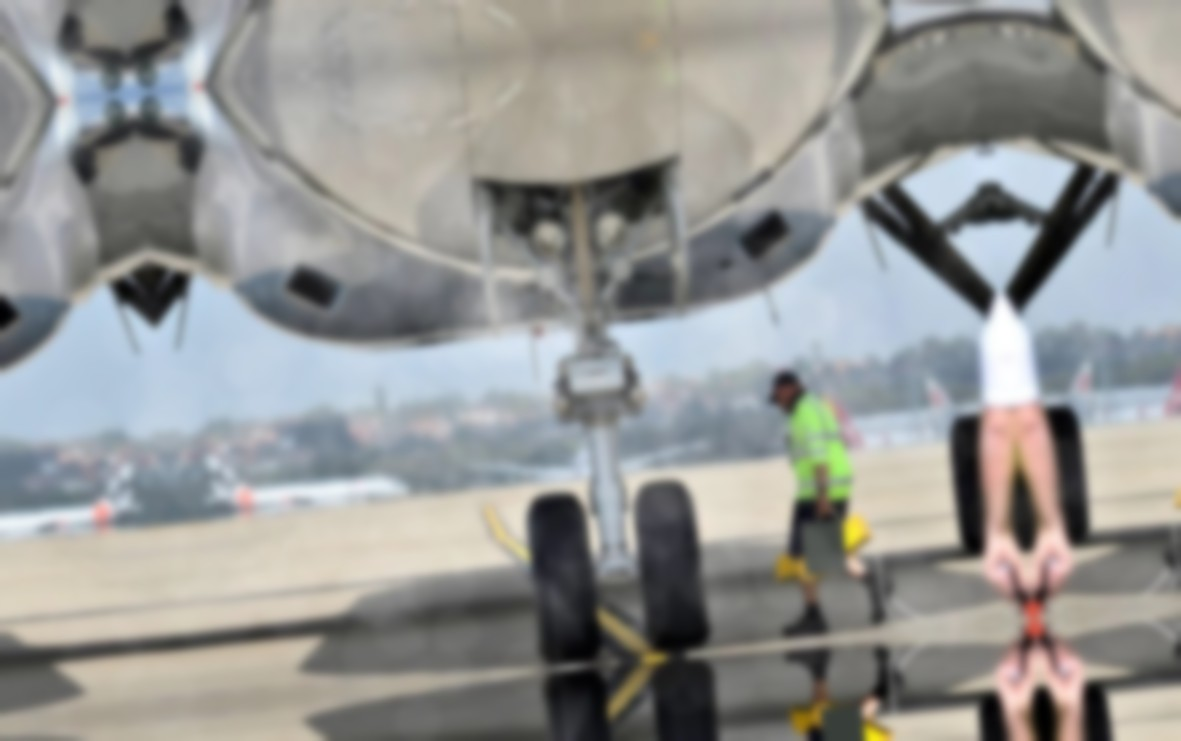chock: (788, 512, 879, 583), (807, 695, 899, 741), (774, 544, 858, 582), (790, 701, 874, 739)
wheel: (628, 477, 712, 655), (520, 489, 602, 666), (647, 658, 730, 741), (946, 415, 993, 554), (1047, 404, 1094, 543), (538, 669, 621, 741), (1076, 685, 1123, 741), (975, 696, 1022, 741)
